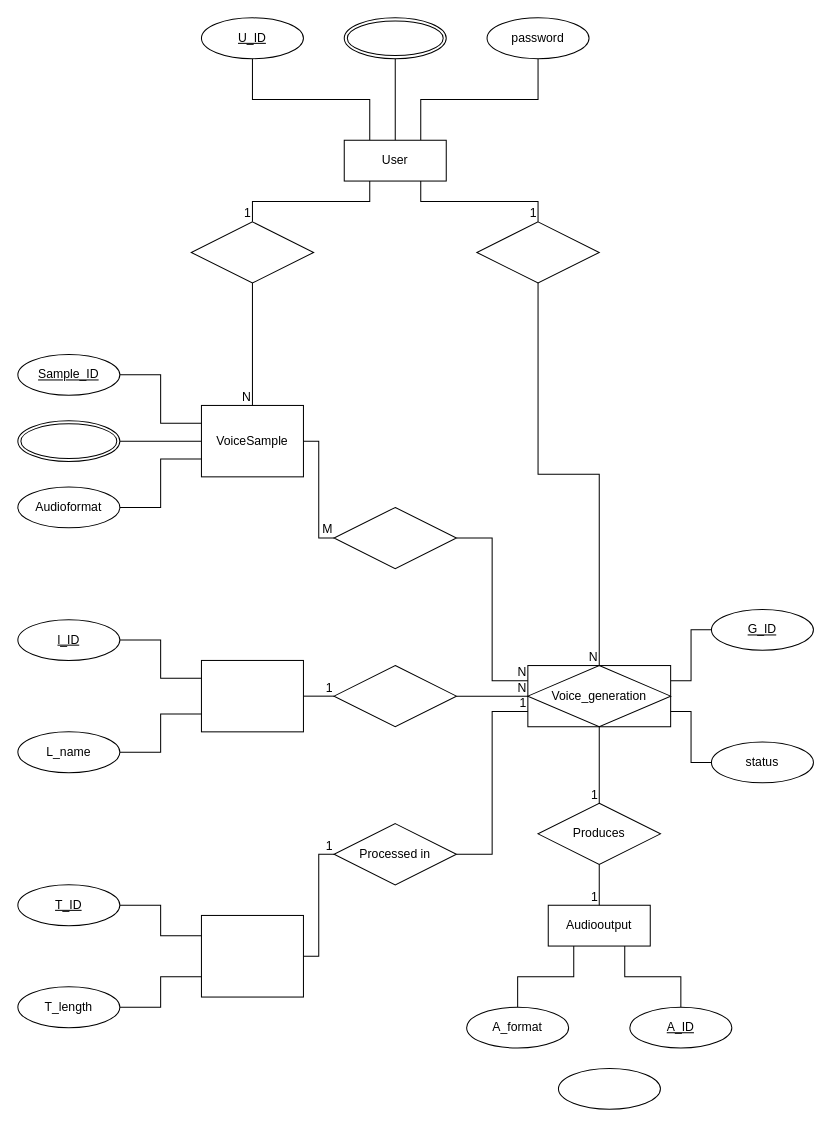
The diagram is 831 pixels wide and 1127 high, and some of its shapes have lost their labels. Here are the shapes that lost their labels. From the top down, the box of each, then its label:
(343, 17, 446, 59): Name
(190, 221, 314, 283): Uploads
(476, 221, 599, 283): Requests
(17, 420, 120, 462): Sample_type
(333, 506, 456, 569): Used for
(200, 659, 303, 732): Language
(333, 665, 456, 727): Selected for
(200, 914, 303, 997): Textinput
(557, 1067, 660, 1109): Attribute
